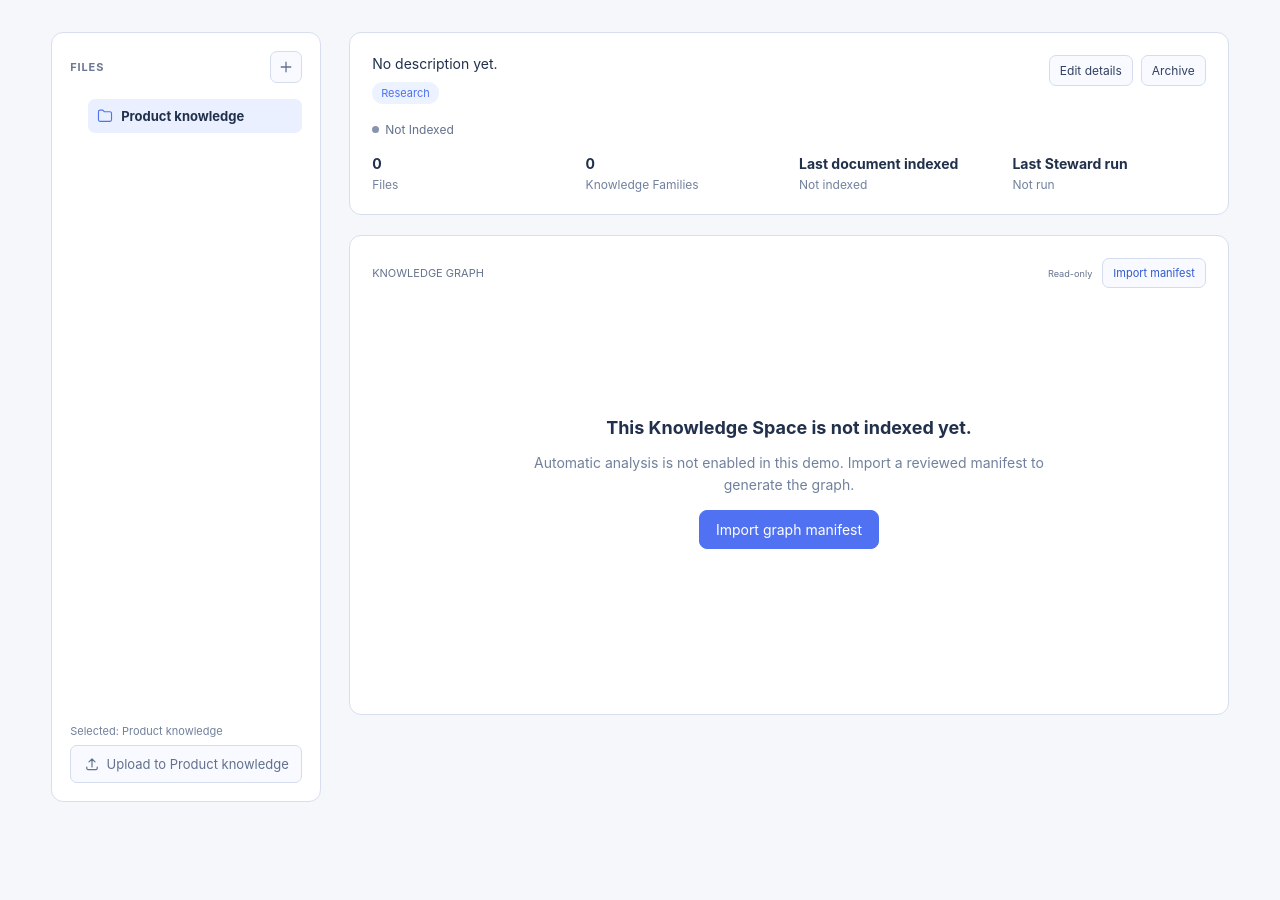
Test: KnowledgeSpaceDetailView › updates metadata with the current revision
The width and height of the screenshot is (1280, 900).
Click the button "Edit details": [1091, 70] box [1049,55,1133,86]
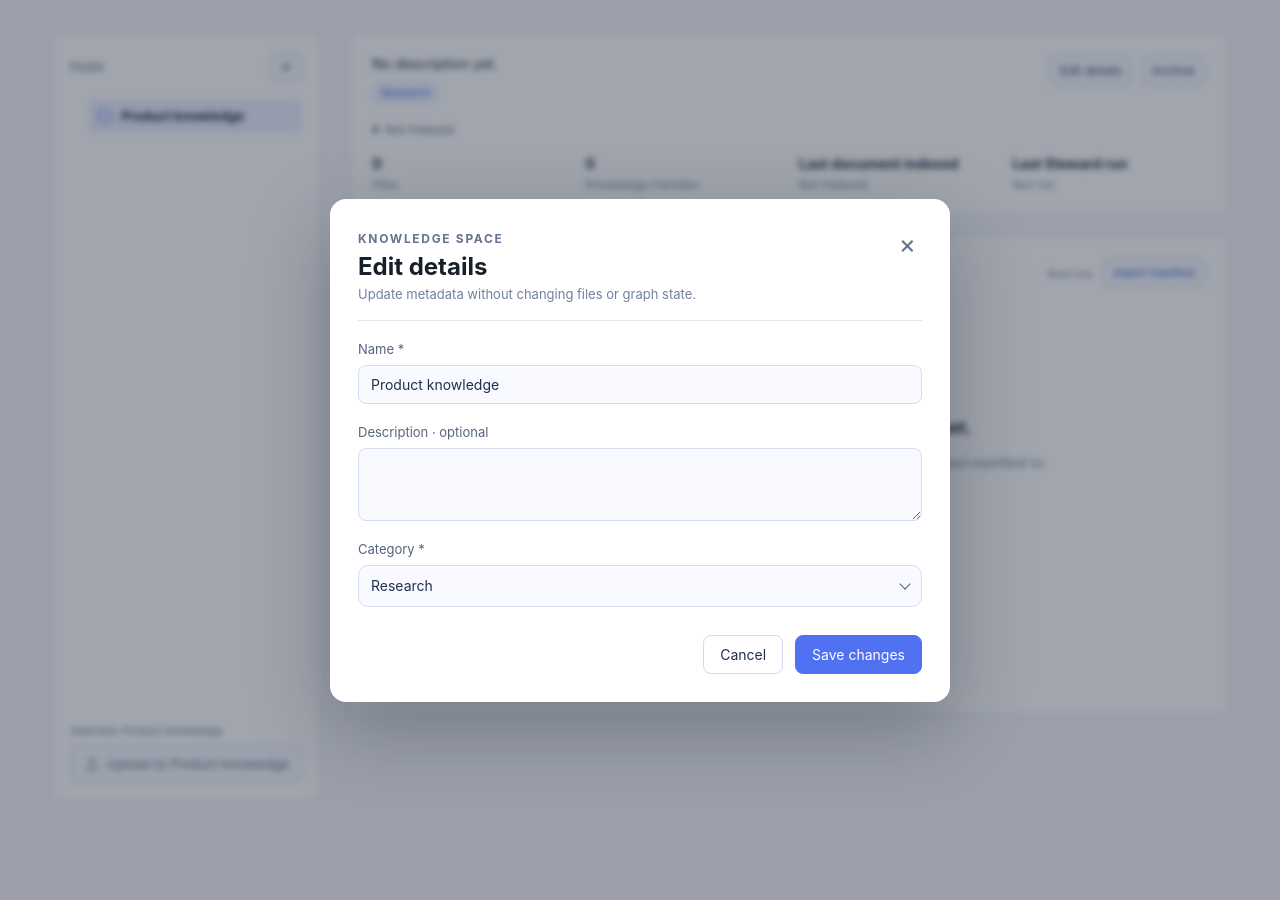
Replace the text in the field labelled "Name *" with "Updated knowledge": [640, 384] box [358,364,922,404]
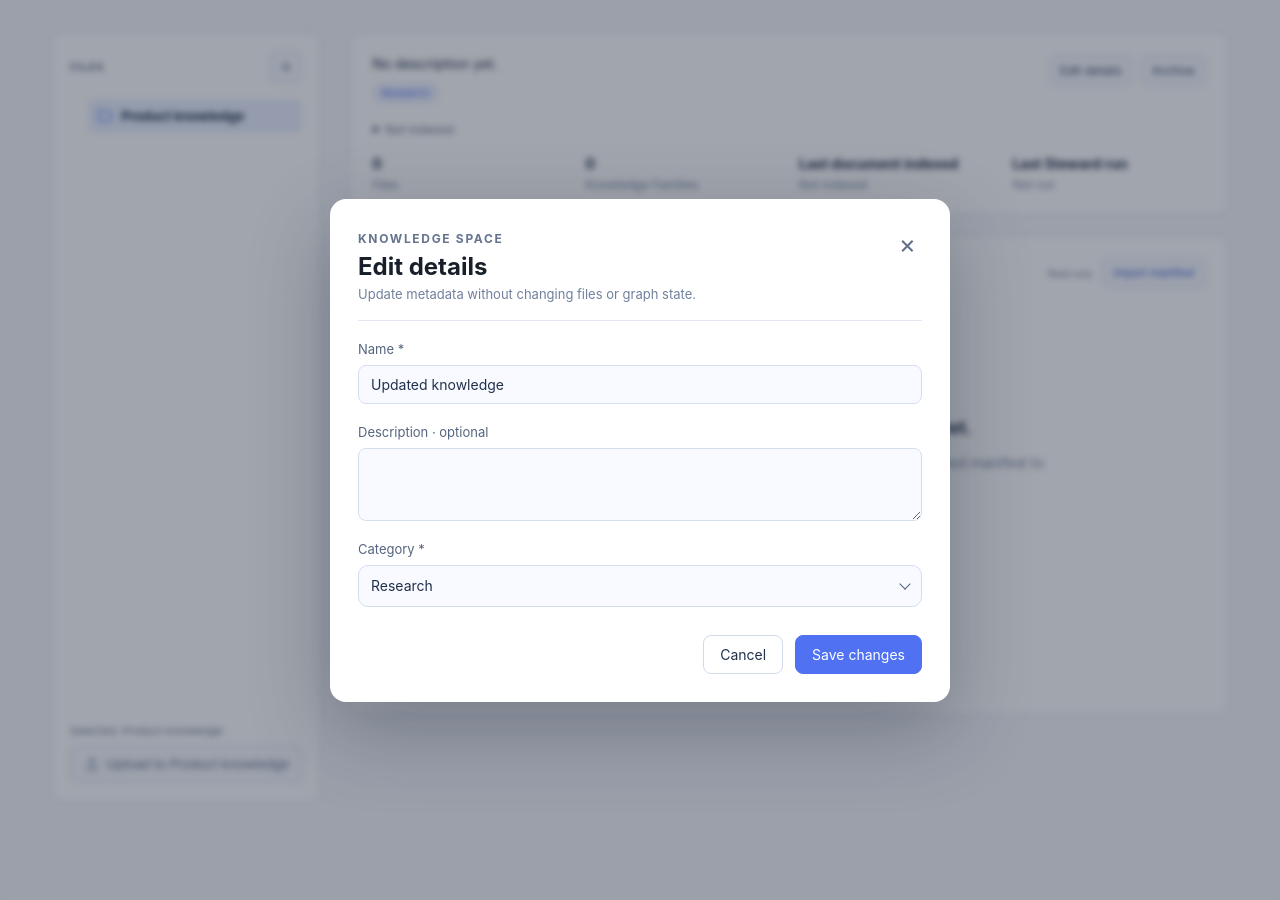
Submit the dialog with class "knowledge-dialog", box [330,198,950,702]
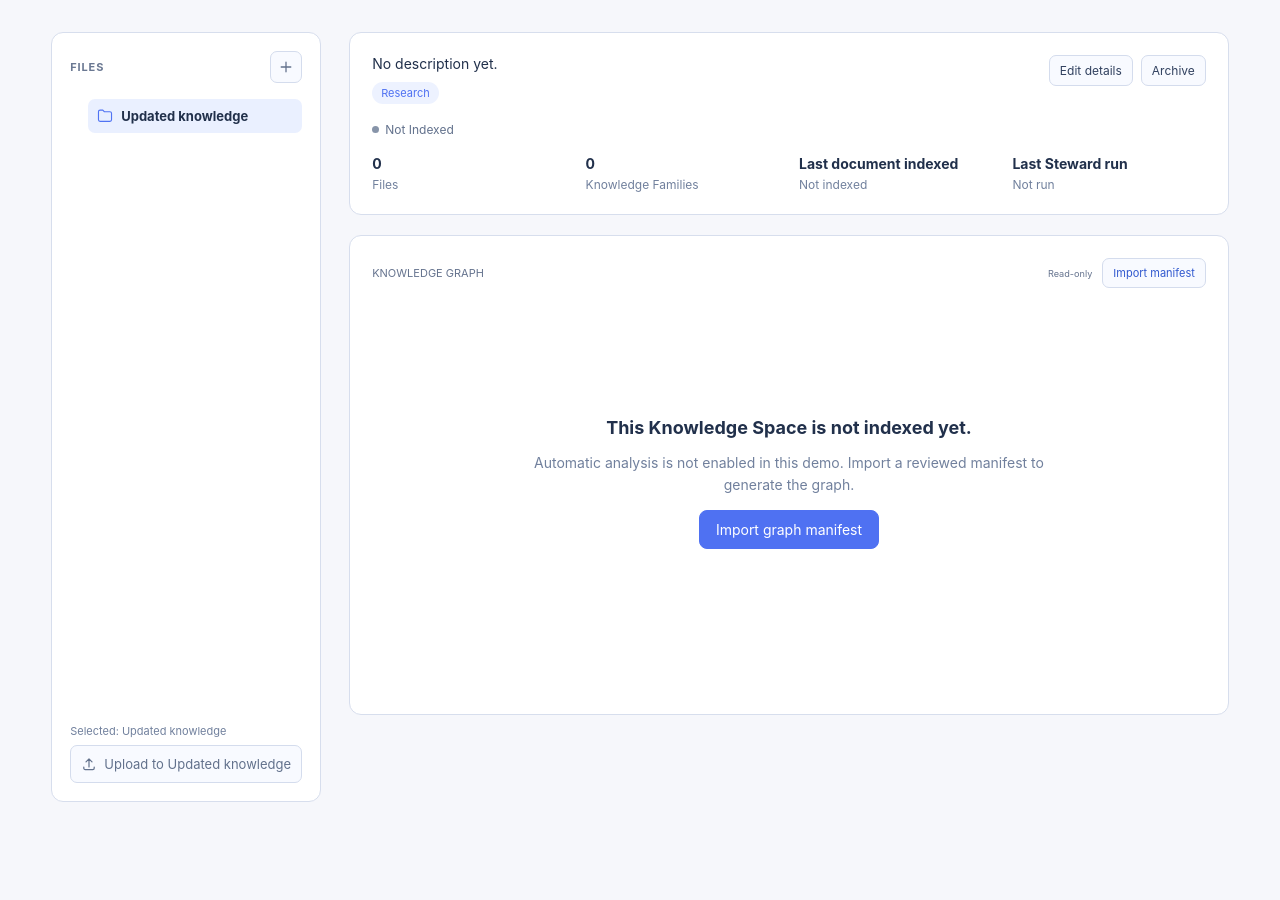
Result: the text "Updated knowledge" is shown at [121,108,248,124]
